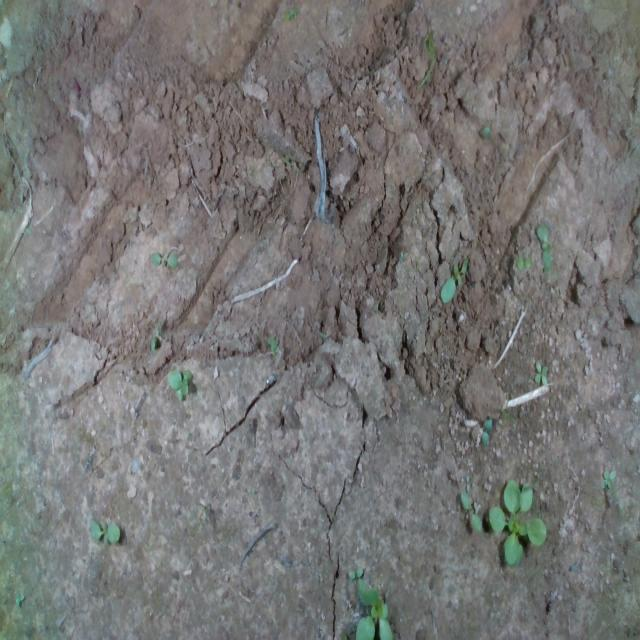weed: (439, 255, 468, 303), (459, 490, 482, 532), (88, 516, 120, 545), (535, 220, 552, 270), (149, 250, 179, 268), (533, 357, 549, 387), (480, 414, 492, 446), (514, 254, 532, 270), (13, 588, 25, 606)
